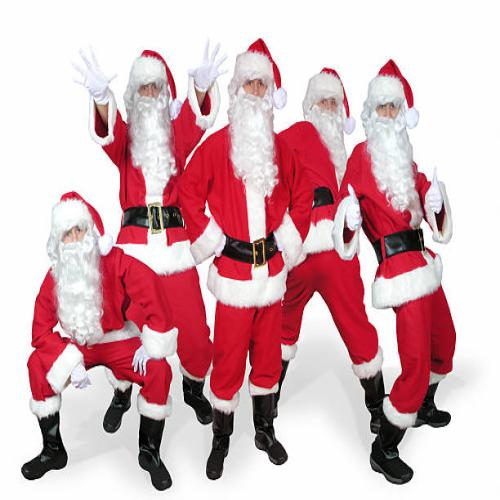Santa: (73, 37, 229, 432), (178, 38, 314, 481), (331, 58, 453, 485), (21, 191, 179, 491), (276, 66, 384, 432)
